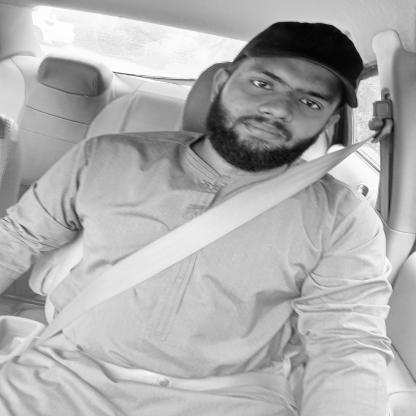seatbelt: (196, 19, 362, 320)
